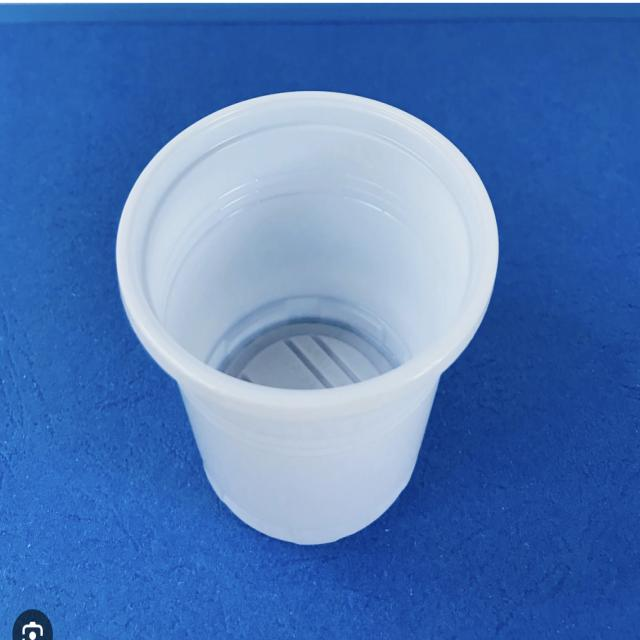recyclable: (99, 57, 553, 598)
